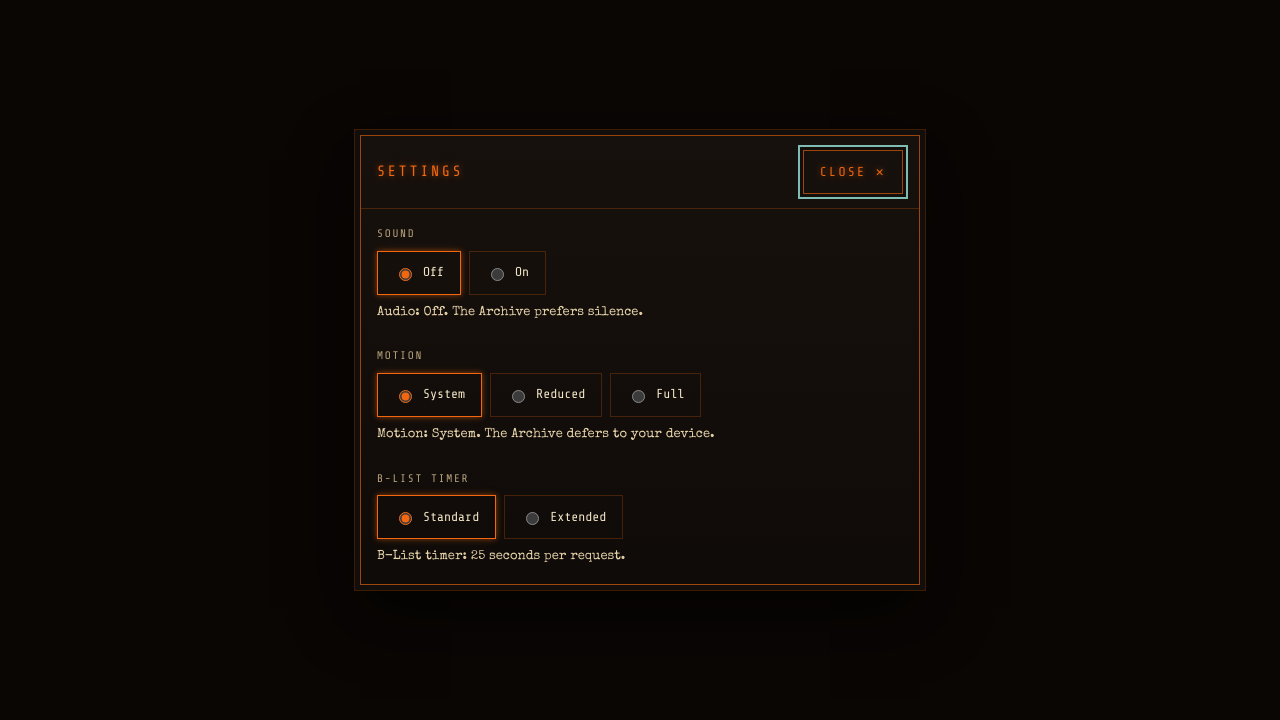
it: SettingsDialog › persists sound:true when Sound On is chosen
Click the radio button labelled "On".
click(498, 274)  # box [491,268,504,280]
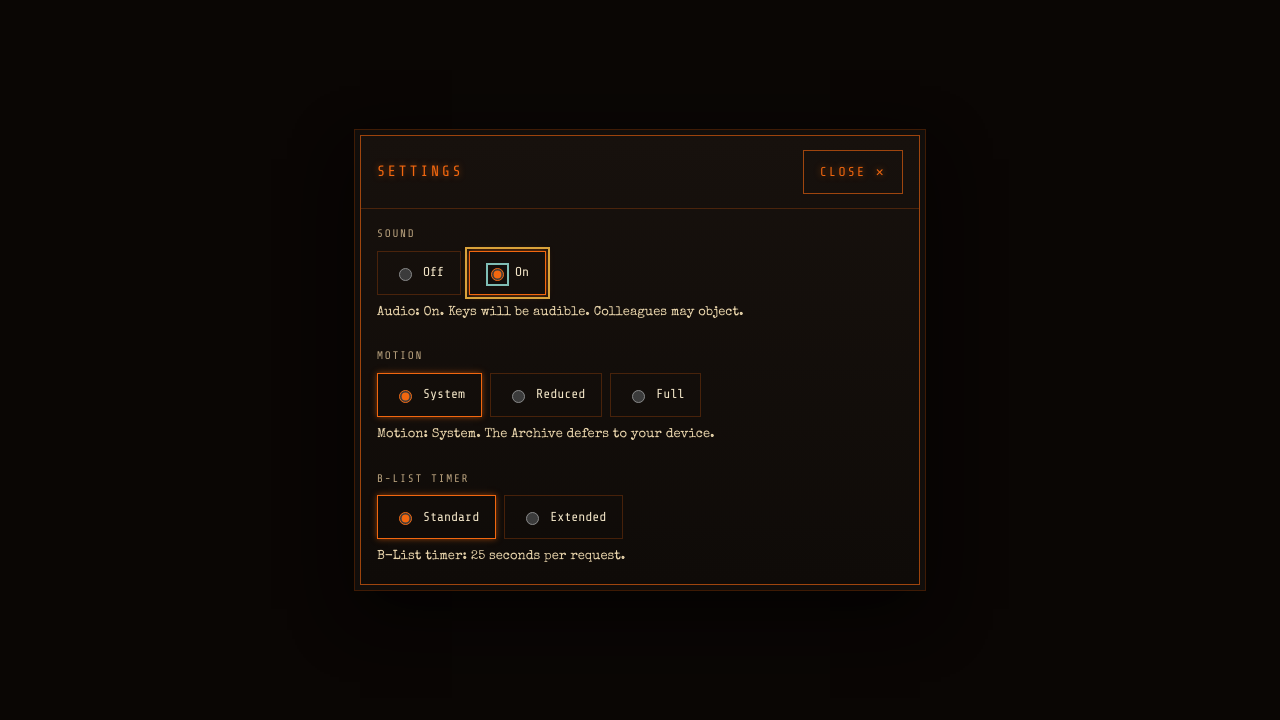
Check: the text "Audio: On. Keys will be audible. Colleagues may object." is shown, box [377,306,744,318]
